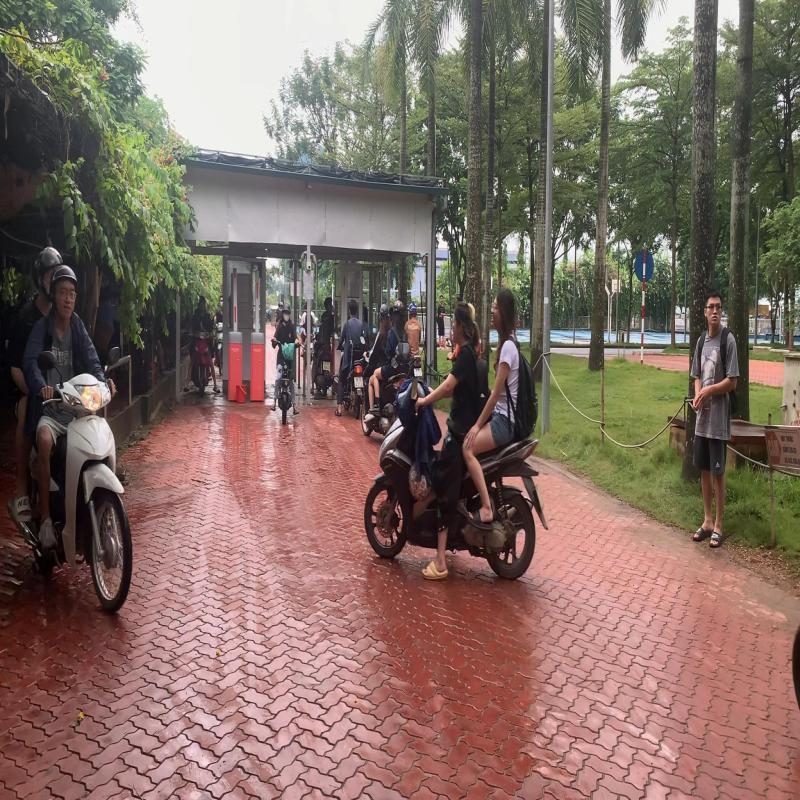nohelmet: (490, 285, 517, 332), (450, 300, 474, 347)
